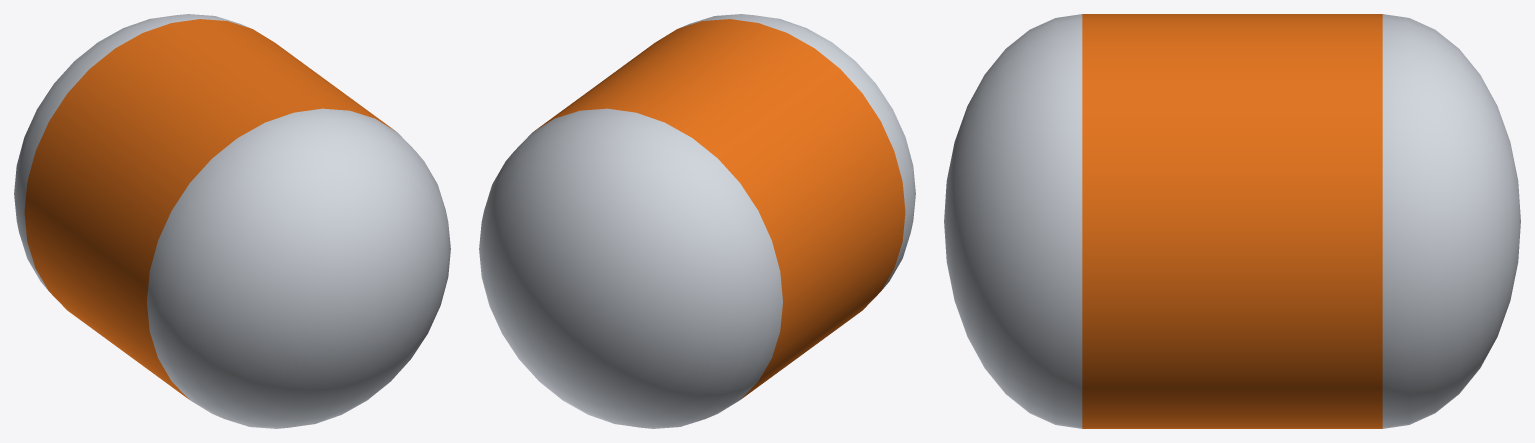
The model's file is fuelpod.obj.
3 views of the same model, side by side, from view 1: azimuth 30°, elevation 25°; view 2: azimuth 150°, elevation 25°; view 3: azimuth 270°, elevation 25° (orthographic). The views are drawn at different scales.
Parts seen in each view (by area): view 1: pod_tank, pod_band; view 2: pod_tank, pod_band; view 3: pod_band, pod_tank.
Part boxes in pixels (<box>): pod_tank: <box>14,14,450,428</box>; pod_band: <box>24,19,394,399</box>; pod_tank: <box>479,14,915,428</box>; pod_band: <box>535,19,905,399</box>; pod_band: <box>1082,14,1382,428</box>; pod_tank: <box>944,14,1520,428</box>.
Bounding box in the file's own units: 3.6 × 3.6 × 5.
